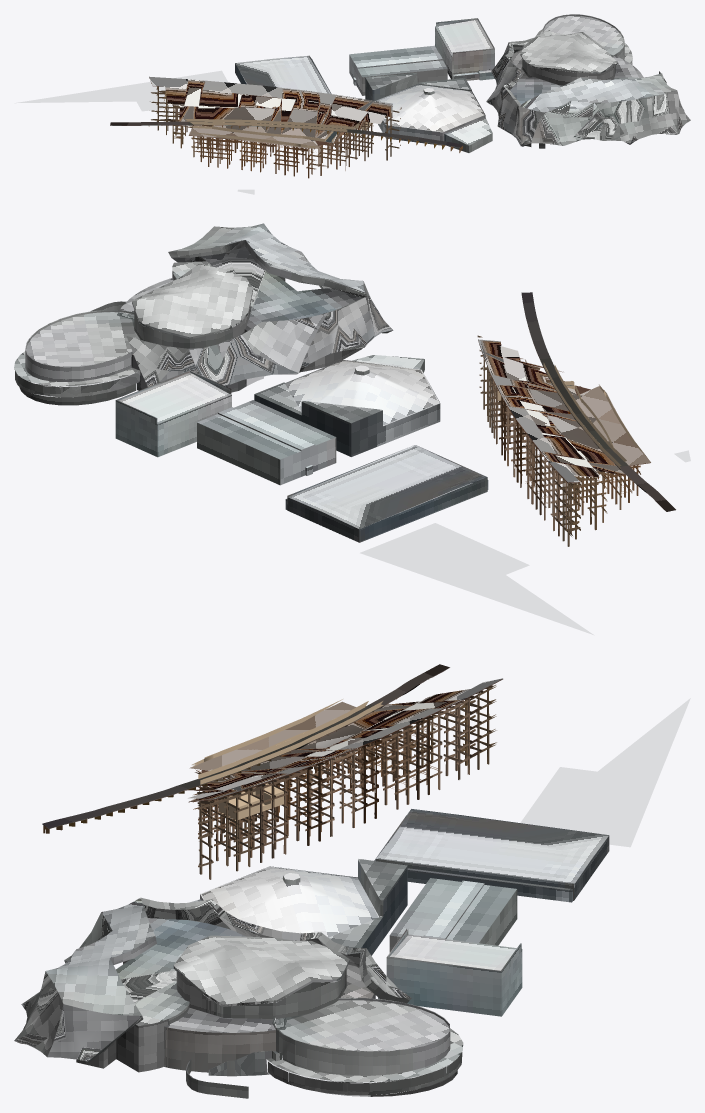
The picture shows the model from 3 angles, top to bottom: view 1: azimuth 30°, elevation 25°; view 2: azimuth 150°, elevation 25°; view 3: azimuth 270°, elevation 25°; orthographic projection. The views are drawn at different scales.
Parts seen in each view (by area): view 1: Buildings_建物パビリオン, GrandRoofRing_大屋根リング; view 2: Buildings_建物パビリオン, GrandRoofRing_大屋根リング; view 3: Buildings_建物パビリオン, GrandRoofRing_大屋根リング.
Part boxes in pixels (left/top/right/bottom): Buildings_建物パビリオン: left=14, top=14, right=690, bottom=194; GrandRoofRing_大屋根リング: left=110, top=76, right=463, bottom=178; Buildings_建物パビリオン: left=14, top=223, right=690, bottom=635; GrandRoofRing_大屋根リング: left=477, top=292, right=675, bottom=546; Buildings_建物パビリオン: left=14, top=698, right=690, bottom=1098; GrandRoofRing_大屋根リング: left=42, top=664, right=502, bottom=879.
Bounding box in the file's own units: 220 × 21.38 × 157.
Materials: 10 (8 with a texture image).
